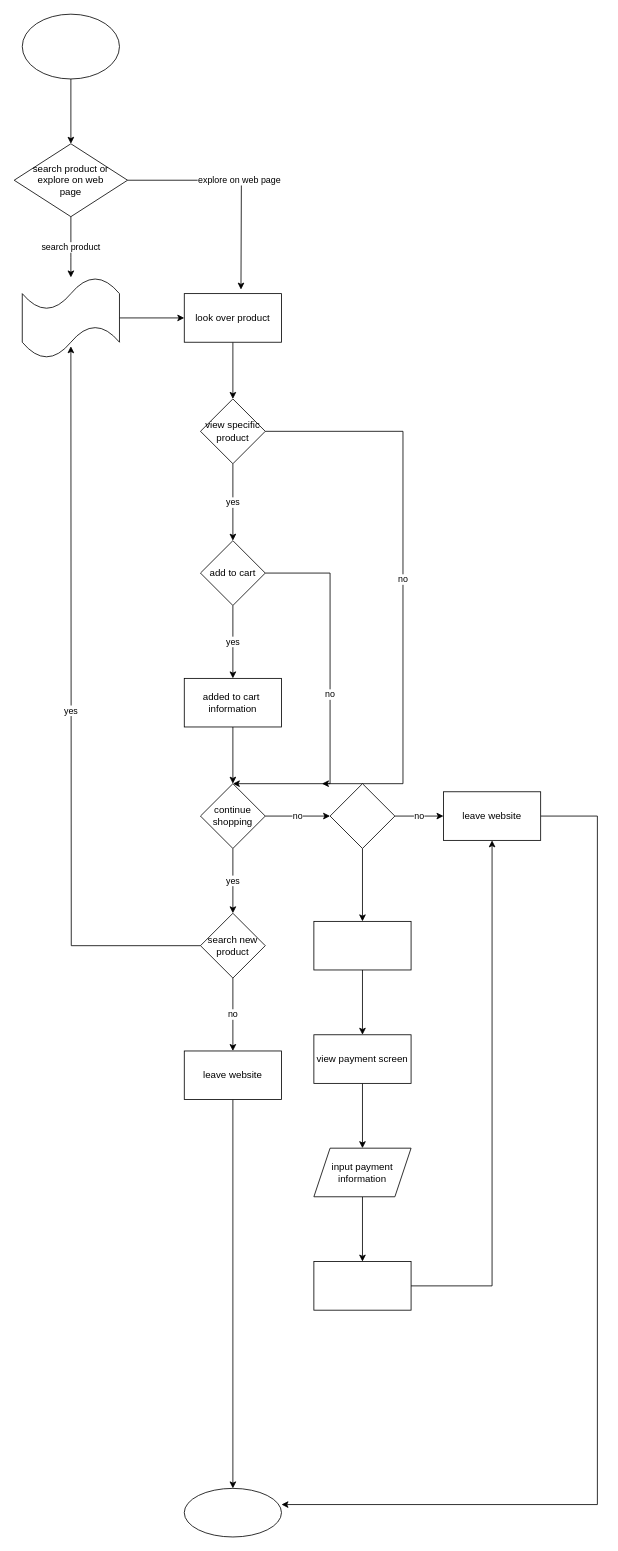
Image size: 618x1551. Some labels were removed from this diagram. The shapes that lost their labels are listed below. From the top down, each one's centre as x and y in pixels, then its label:
At point 70,46: "Entering Website".
At point 70,317: "input for website".
At point 362,815: "check out".
At point 362,945: "view cart screen".
At point 362,1285: "see an order confimation screen and receive email".
At point 232,1512: "End".
